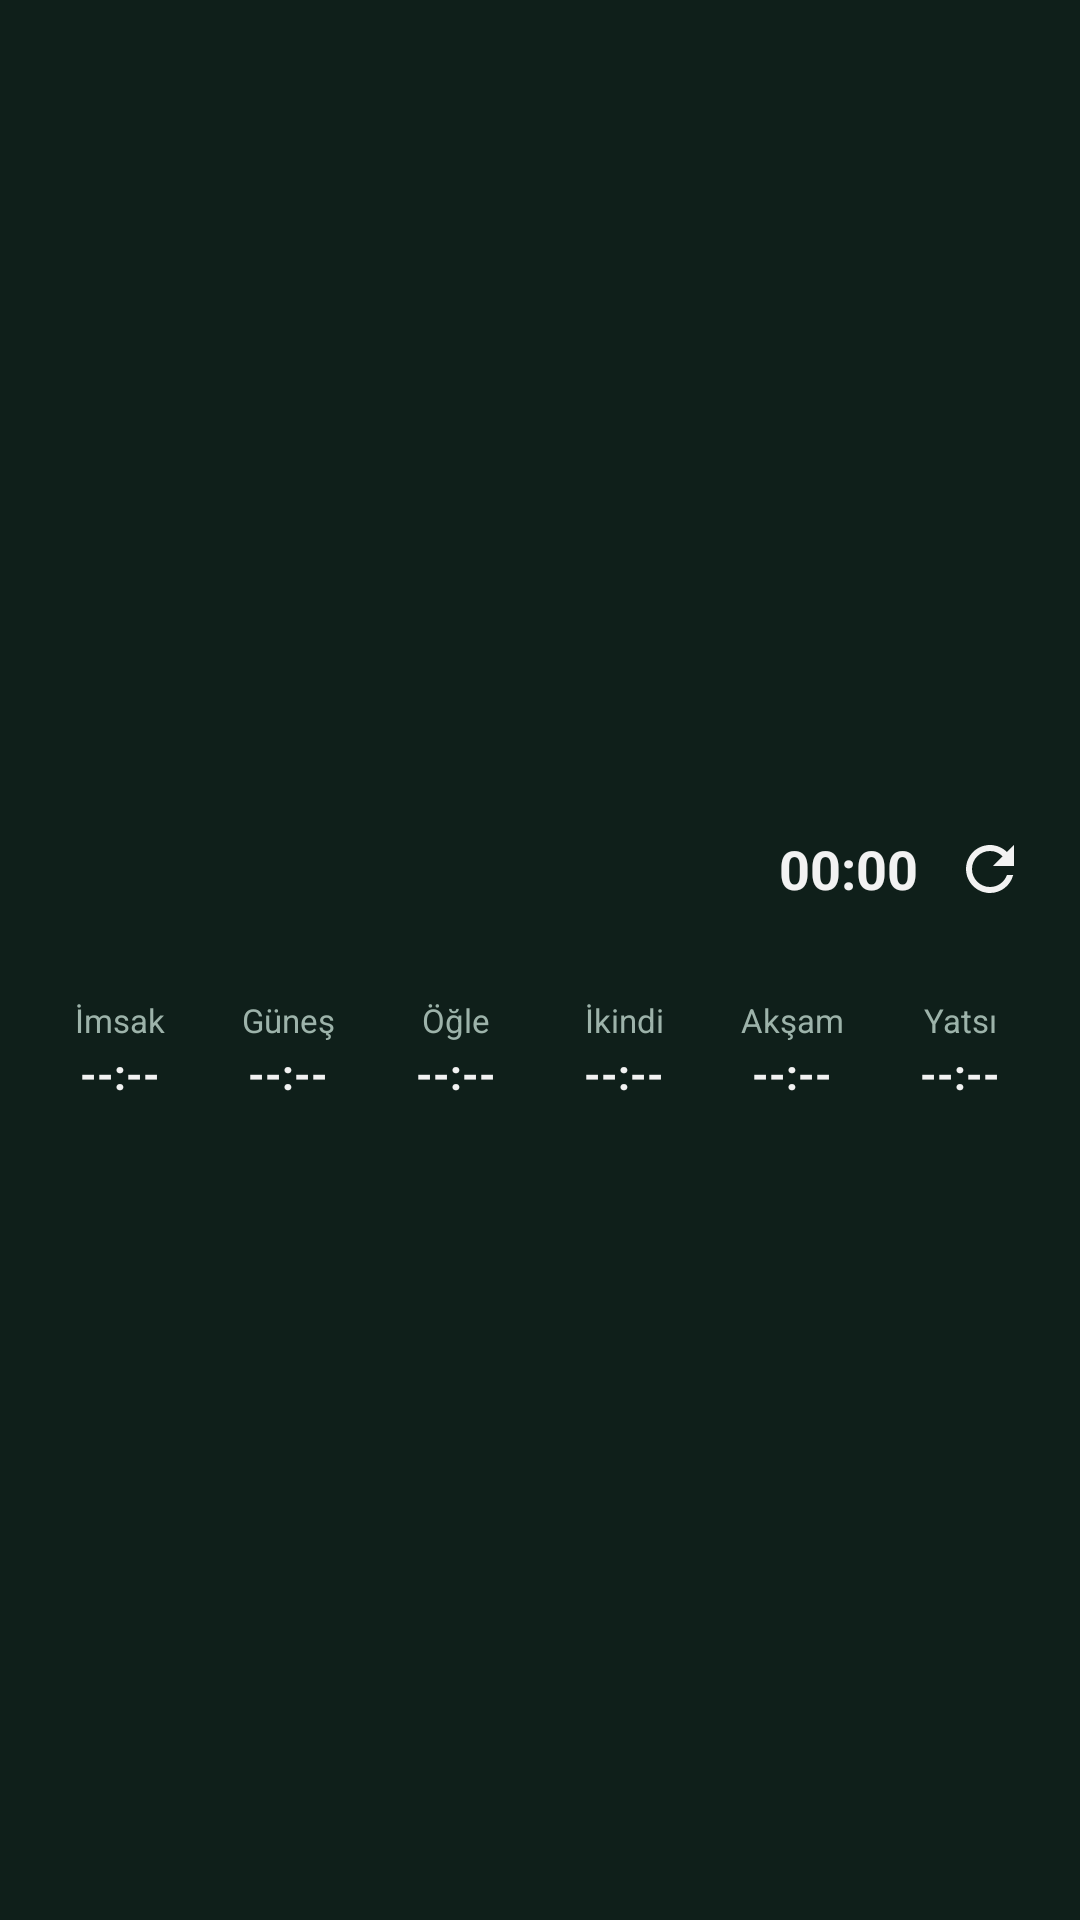

Named icons in this screenshot (1080×1920) and their centers, point (x, y):
Konumu ve vakitleri yenile: point (990, 869)
